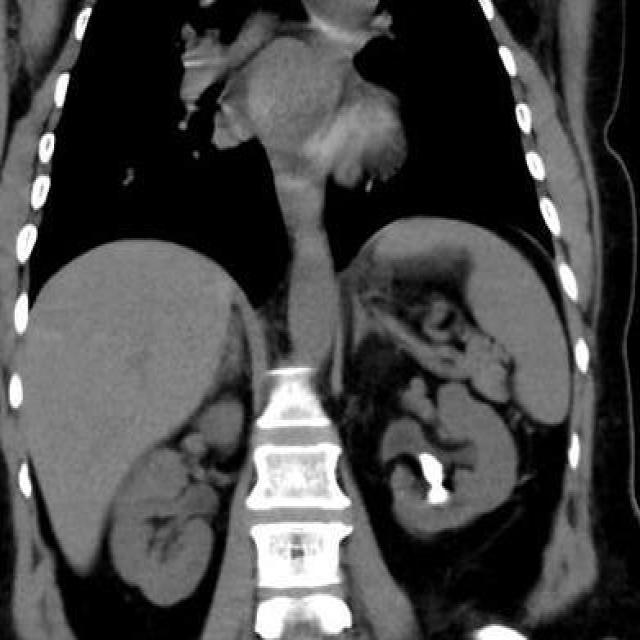Tas_Var: (416, 452, 460, 508)
